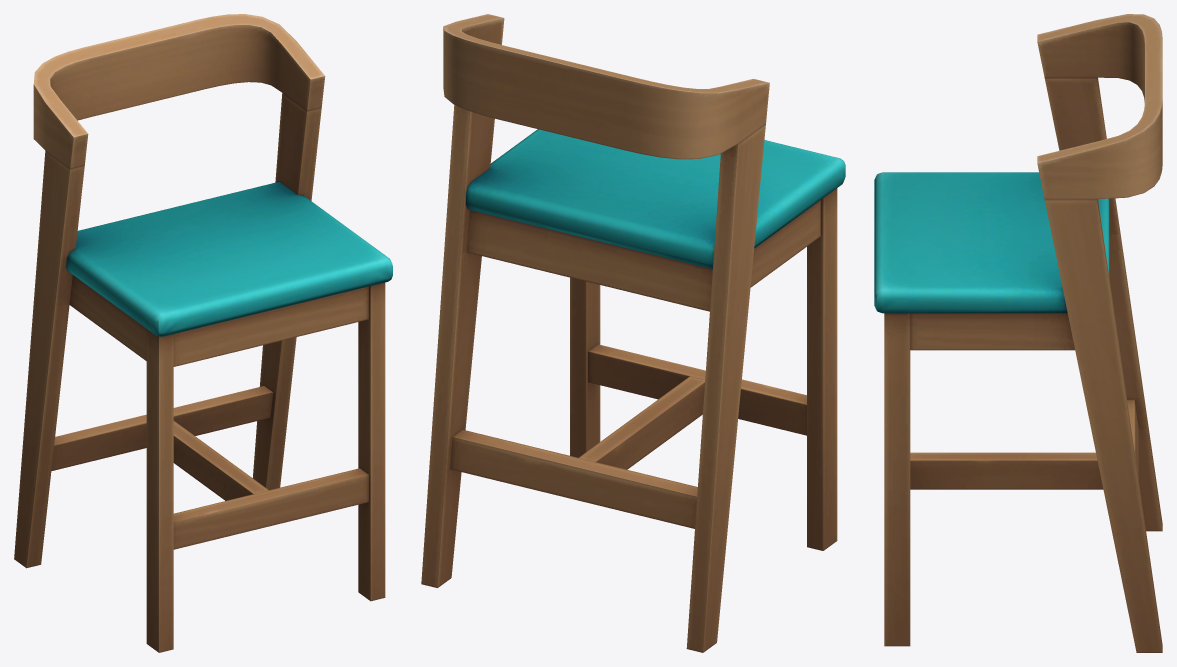
File: home_chair.glb
3 views of the same model, side by side, from view 1: azimuth 30°, elevation 25°; view 2: azimuth 150°, elevation 25°; view 3: azimuth 270°, elevation 25° (orthographic). The views are drawn at different scales.
Visible parts, largest first — view 1: TinyLiving_NotQuiteOrbitalSitting; view 2: TinyLiving_NotQuiteOrbitalSitting; view 3: TinyLiving_NotQuiteOrbitalSitting.
Part boxes in pixels (x1,y1,x2,y2): TinyLiving_NotQuiteOrbitalSitting: [14, 14, 392, 652]; TinyLiving_NotQuiteOrbitalSitting: [421, 14, 845, 652]; TinyLiving_NotQuiteOrbitalSitting: [874, 14, 1162, 652].
Size of the model in its own units: 0.55 by 1.03 by 0.5193.
1 material, 1 textured.
